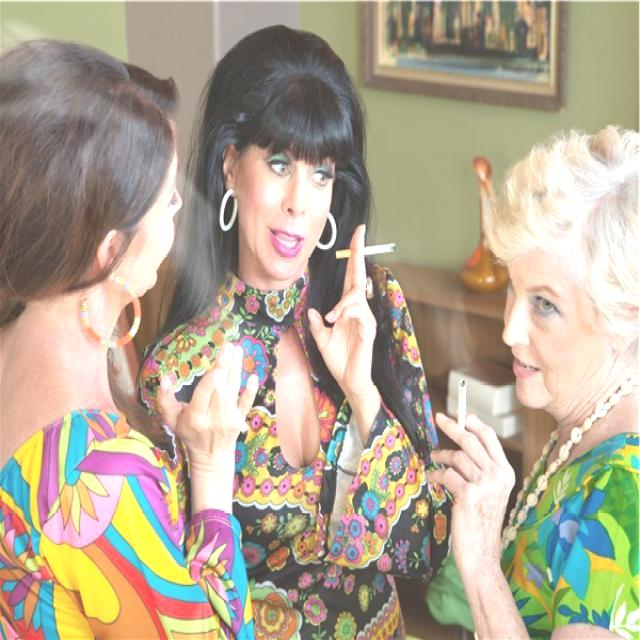smoke: (197, 348, 252, 443), (333, 234, 400, 260), (451, 370, 476, 439)
